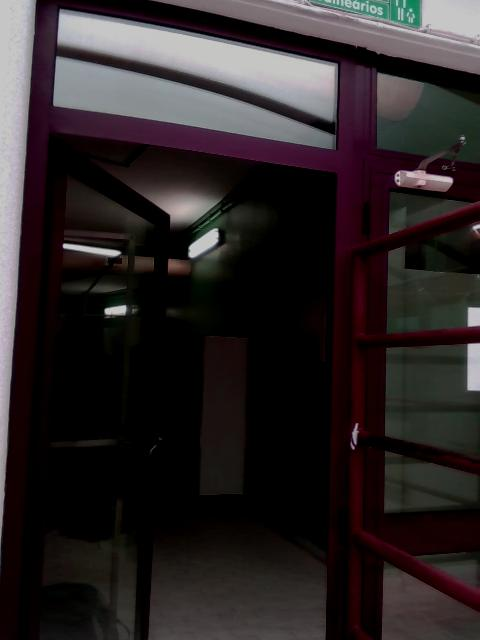open_door: (3, 104, 355, 639)
